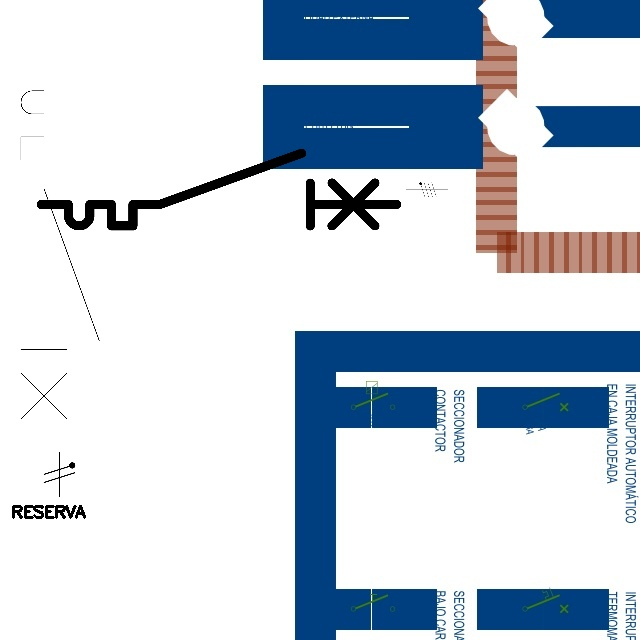interruptor_termomagnetico: (11, 52, 109, 452), (32, 144, 406, 235)
